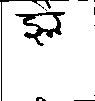ai_matra: (28, 0, 57, 11)
